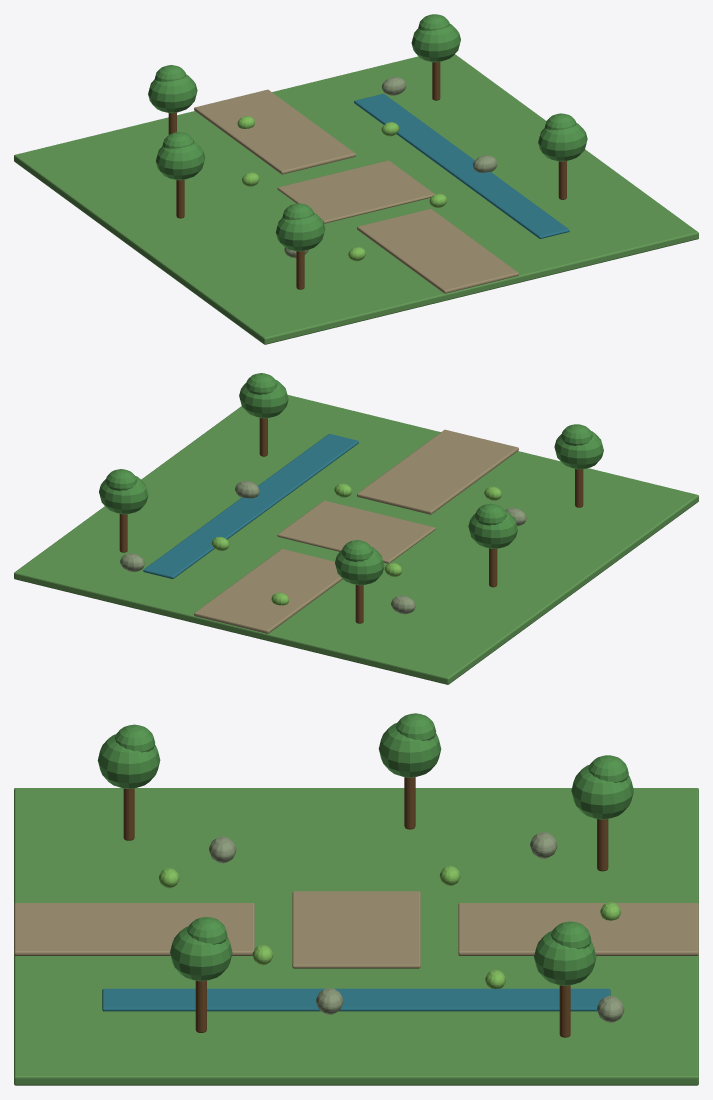
Rendered from chunk_path_straight.fbx.
The picture shows the model from 3 angles, top to bottom: view 1: azimuth 30°, elevation 25°; view 2: azimuth 150°, elevation 25°; view 3: azimuth 270°, elevation 25°; orthographic projection. The views are drawn at different scales.
Parts seen in each view (by area): view 1: chunk_path_straight; view 2: chunk_path_straight; view 3: chunk_path_straight.
Boxes of the visible parts, bbox=[...] form: chunk_path_straight: bbox=[14, 14, 698, 344]; chunk_path_straight: bbox=[14, 373, 698, 684]; chunk_path_straight: bbox=[14, 713, 698, 1085].
Bounding box in the file's own units: 256 × 50.2 × 256.
